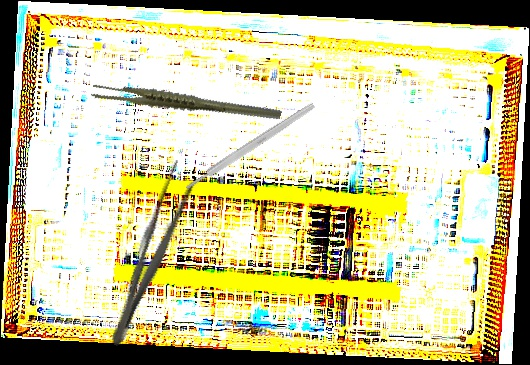Dressing Forceps: (101, 157, 202, 352)
Scalpel Handle: (183, 101, 317, 192)
Tissue Forceps: (89, 51, 283, 155)
